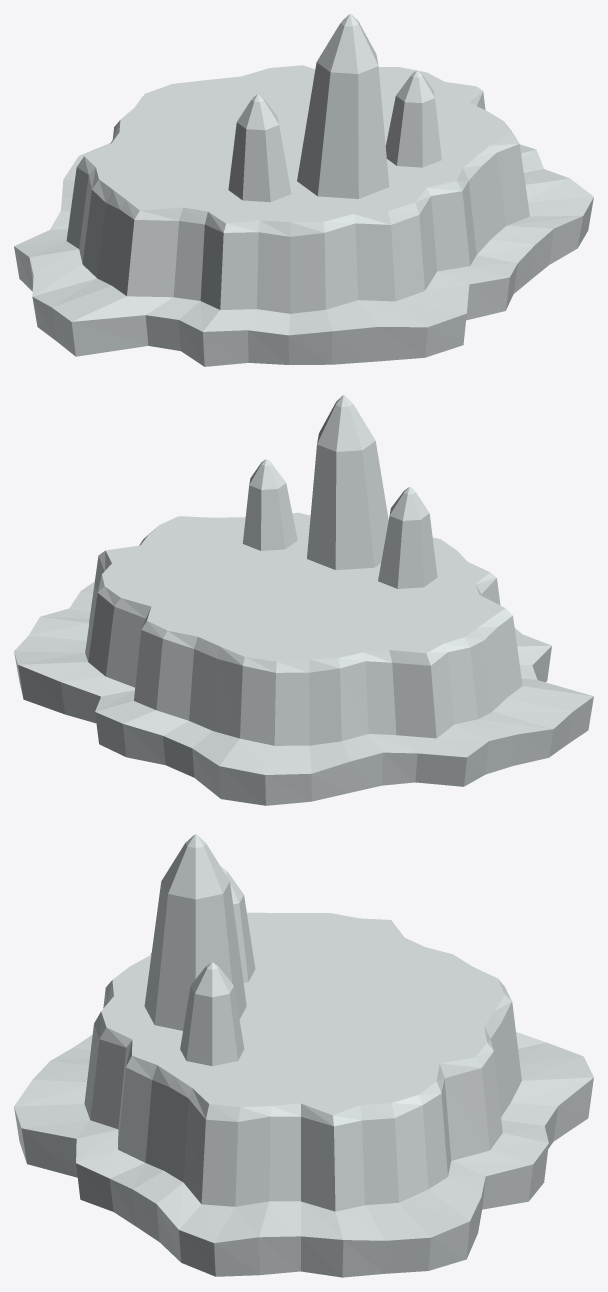
File: ice_island.obj
3 views of the same model, one above another, from view 1: azimuth 30°, elevation 25°; view 2: azimuth 150°, elevation 25°; view 3: azimuth 270°, elevation 25° (orthographic). The views are drawn at different scales.
Parts seen in each view (by area): view 1: IceIsland; view 2: IceIsland; view 3: IceIsland.
Part boxes in pixels (<box>): IceIsland: <box>14,14,593,366</box>; IceIsland: <box>14,395,593,805</box>; IceIsland: <box>14,834,593,1277</box>.
Size of the model in its own units: 2.4 by 1.24 by 2.09.
